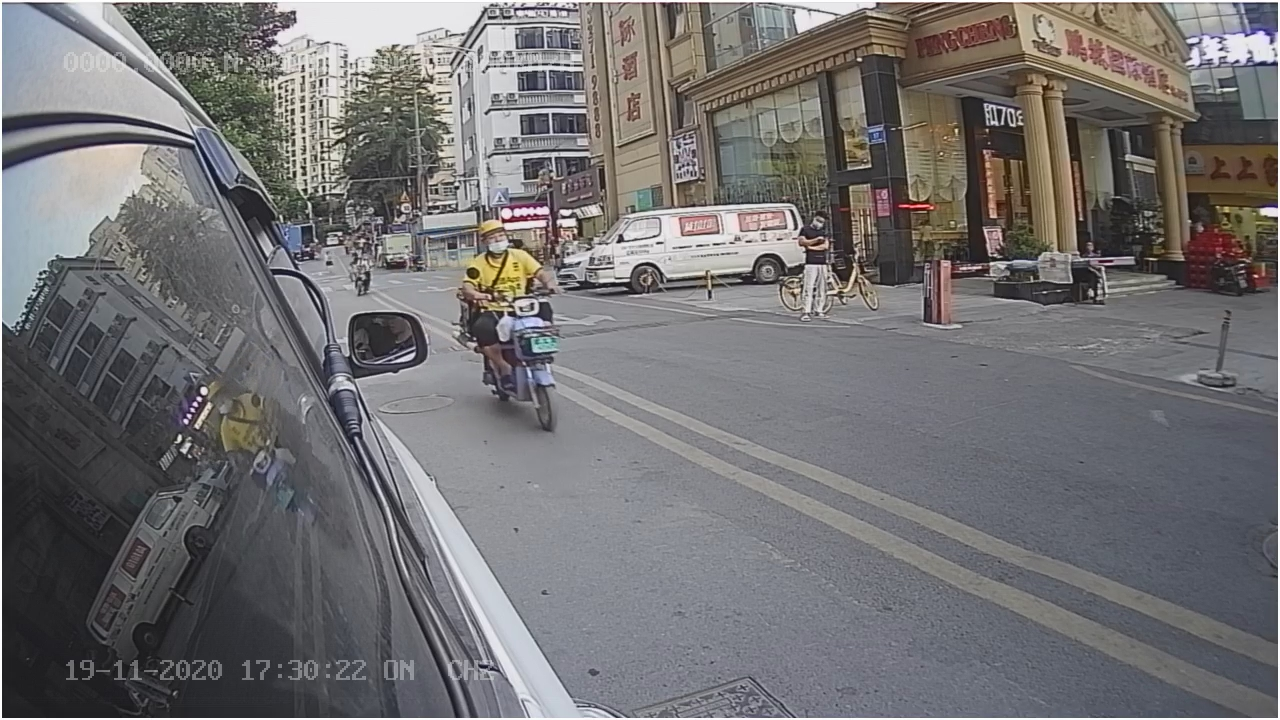person: (460, 220, 548, 287)
